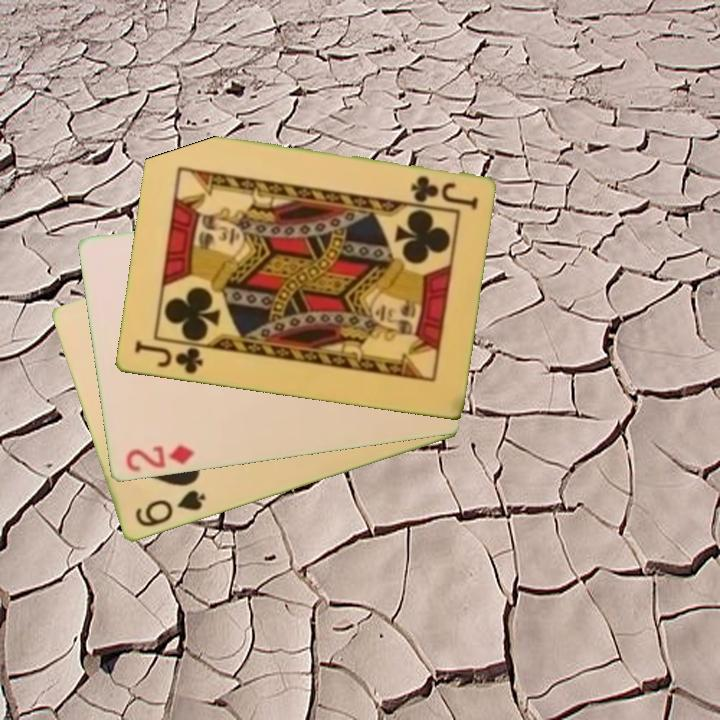2d: (122, 441, 197, 476)
6s: (131, 487, 209, 531)
Jc: (131, 337, 205, 378), (407, 172, 481, 212)
